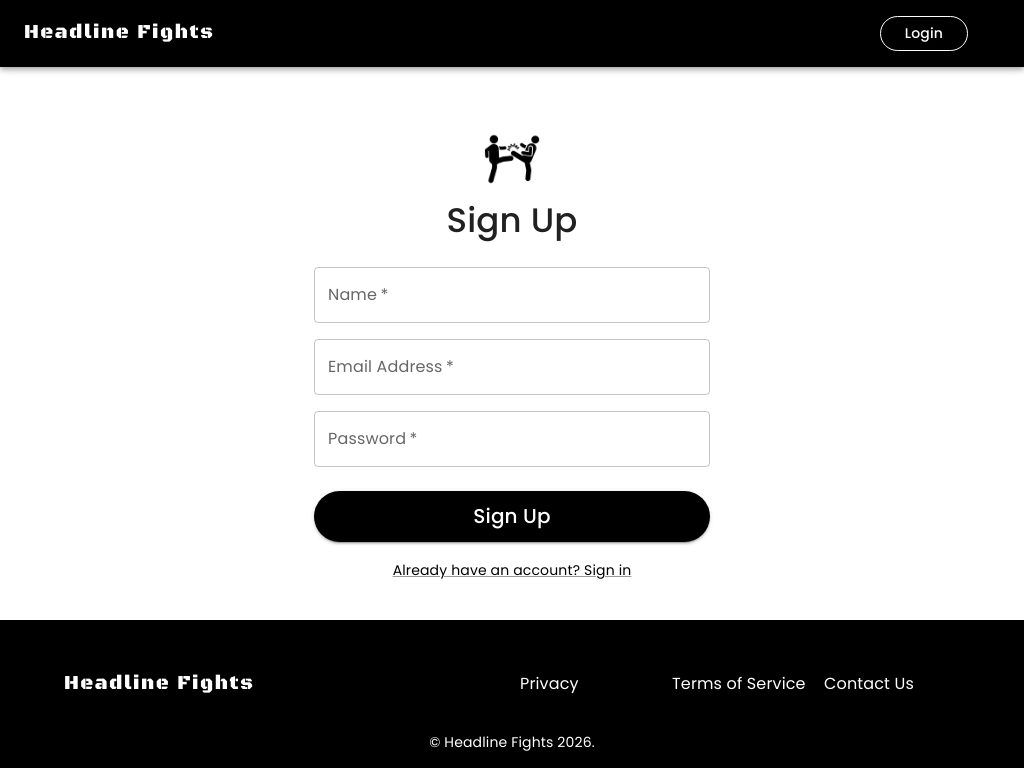
SignUp page › shows validation error for invalid email
This screenshot has width=1024, height=768.
Type "Test User" into the field labelled "Name *" at (512,296), box [314, 268, 710, 324]
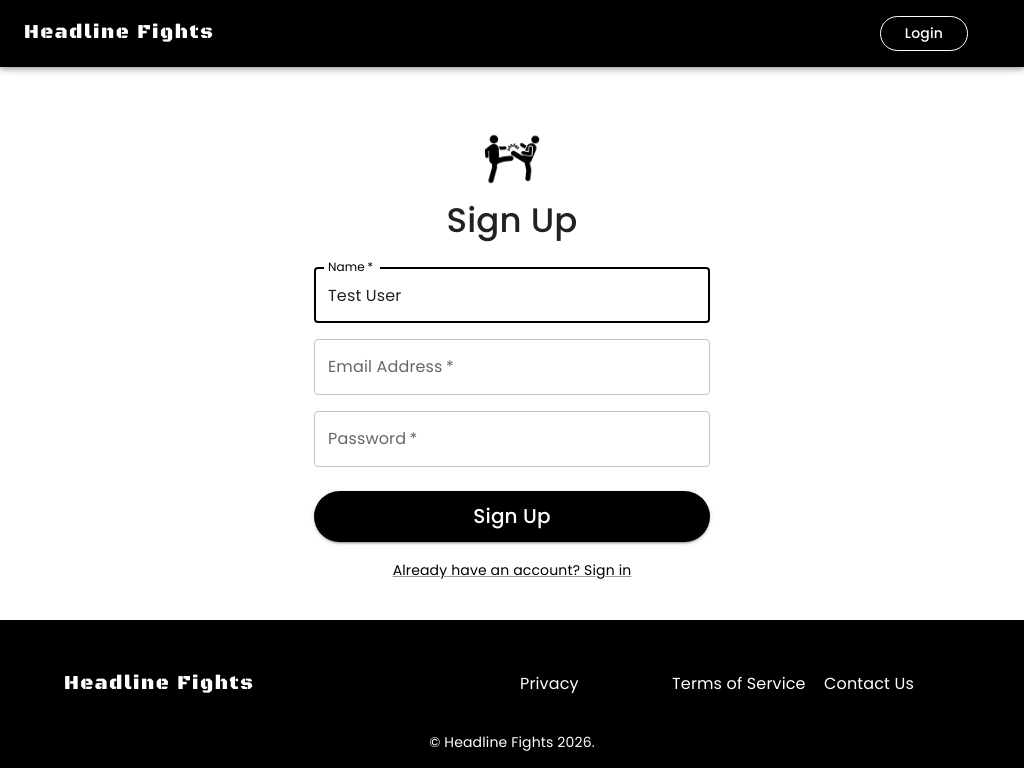
Type "notanemail" into the field labelled "Email Address *" at (512,368), box [314, 340, 710, 396]
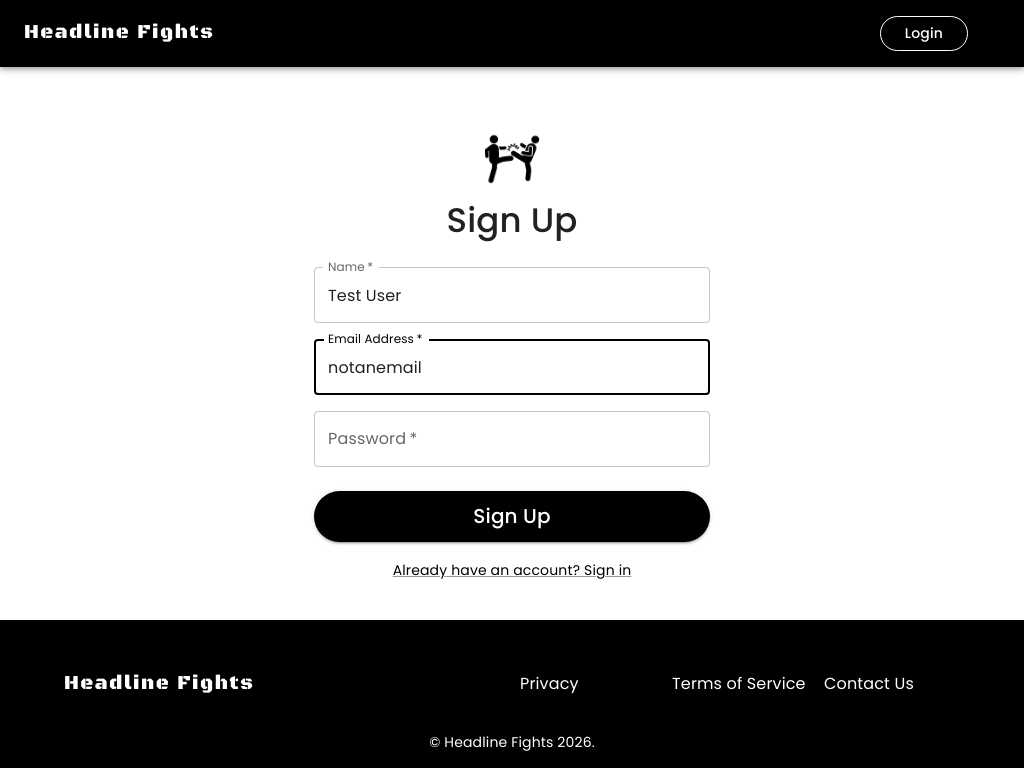
Type "StrongPass1!" into the password field labelled "Password *" at (512,440), box [314, 412, 710, 468]
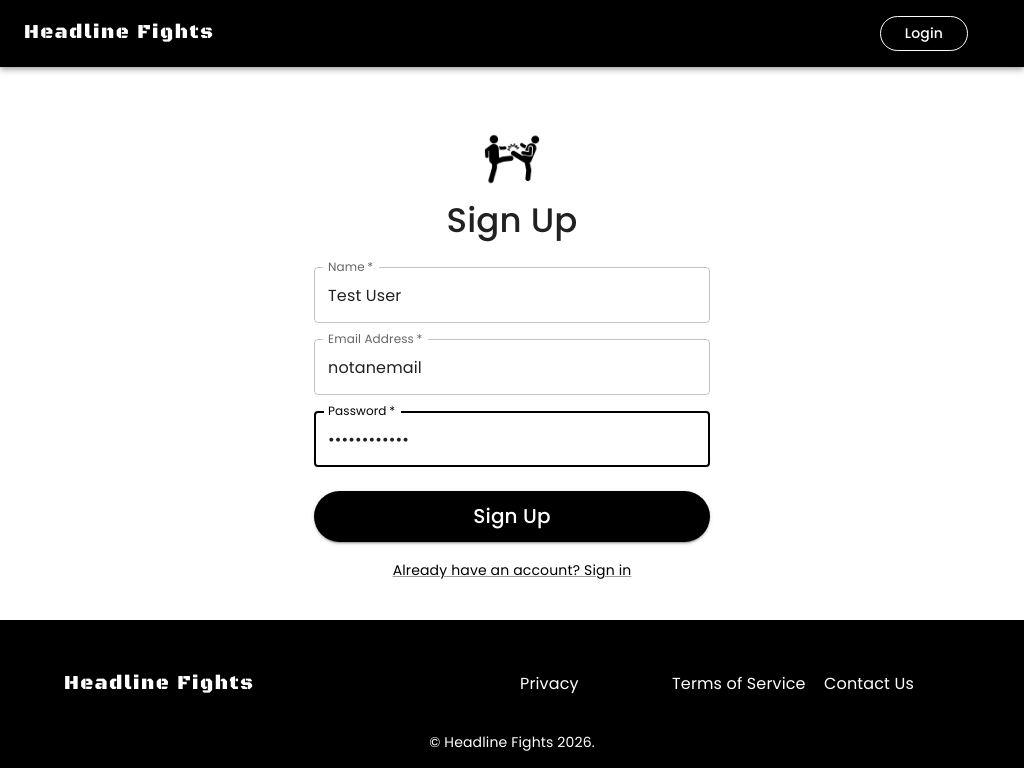
Submit the form "Sign Up", box [314, 268, 710, 582]
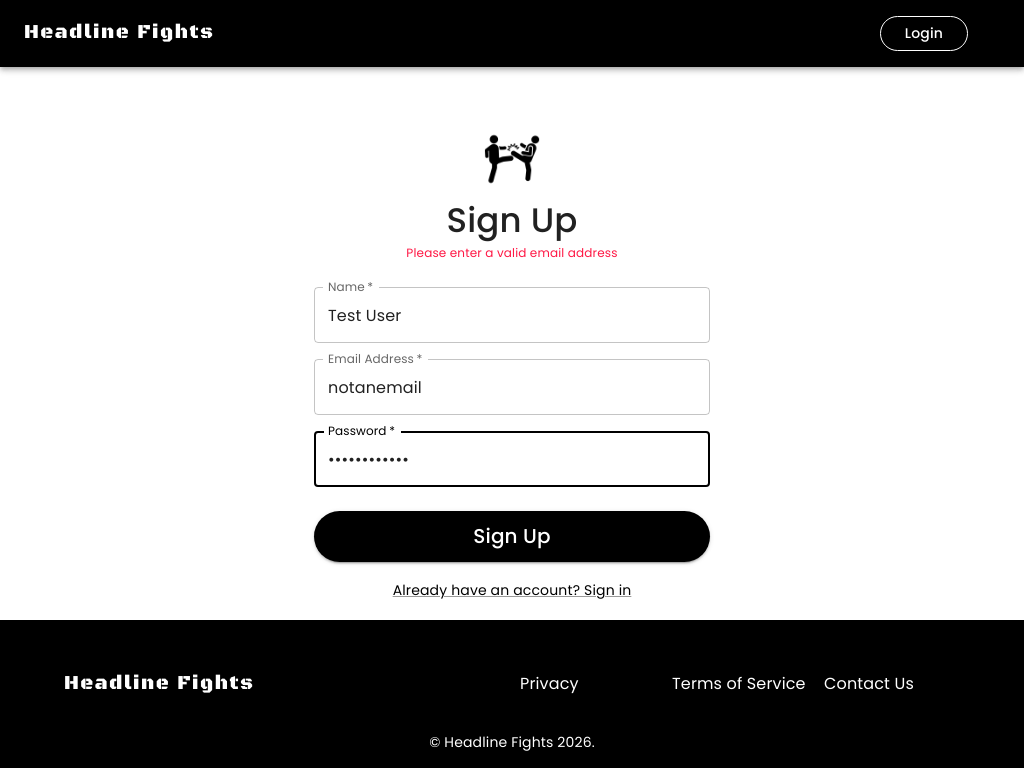
Result: the text "Please enter a valid email address" is shown at [406, 244, 618, 263]
